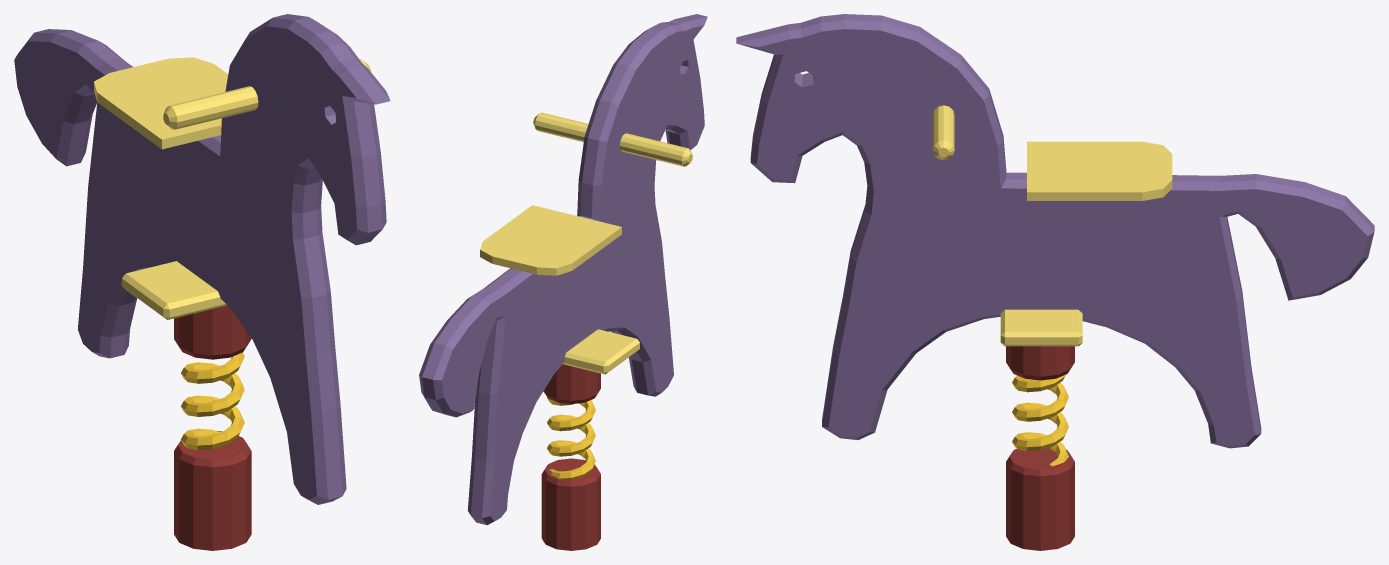
File: Isl_9_Children_Horse_1.fbx
3 views of the same model, side by side, from view 1: azimuth 30°, elevation 25°; view 2: azimuth 150°, elevation 25°; view 3: azimuth 270°, elevation 25° (orthographic). The views are drawn at different scales.
Visible parts, largest first — view 1: Isl_9_Children_Horse_1; view 2: Isl_9_Children_Horse_1; view 3: Isl_9_Children_Horse_1.
Part boxes in pixels (bbox=[...]): Isl_9_Children_Horse_1: bbox=[14, 14, 390, 550]; Isl_9_Children_Horse_1: bbox=[419, 14, 707, 550]; Isl_9_Children_Horse_1: bbox=[736, 14, 1374, 550].
Size of the model in its own units: 38.88 by 120 by 107.
Materials: 1 (1 with a texture image).
